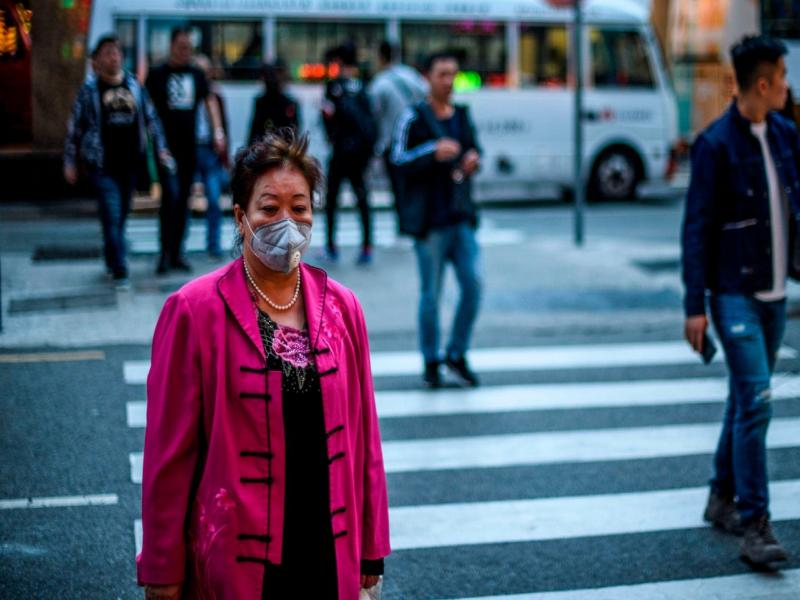bad: (770, 59, 792, 112), (434, 66, 459, 99), (173, 35, 193, 65), (102, 47, 122, 75)
good: (249, 186, 313, 276)
